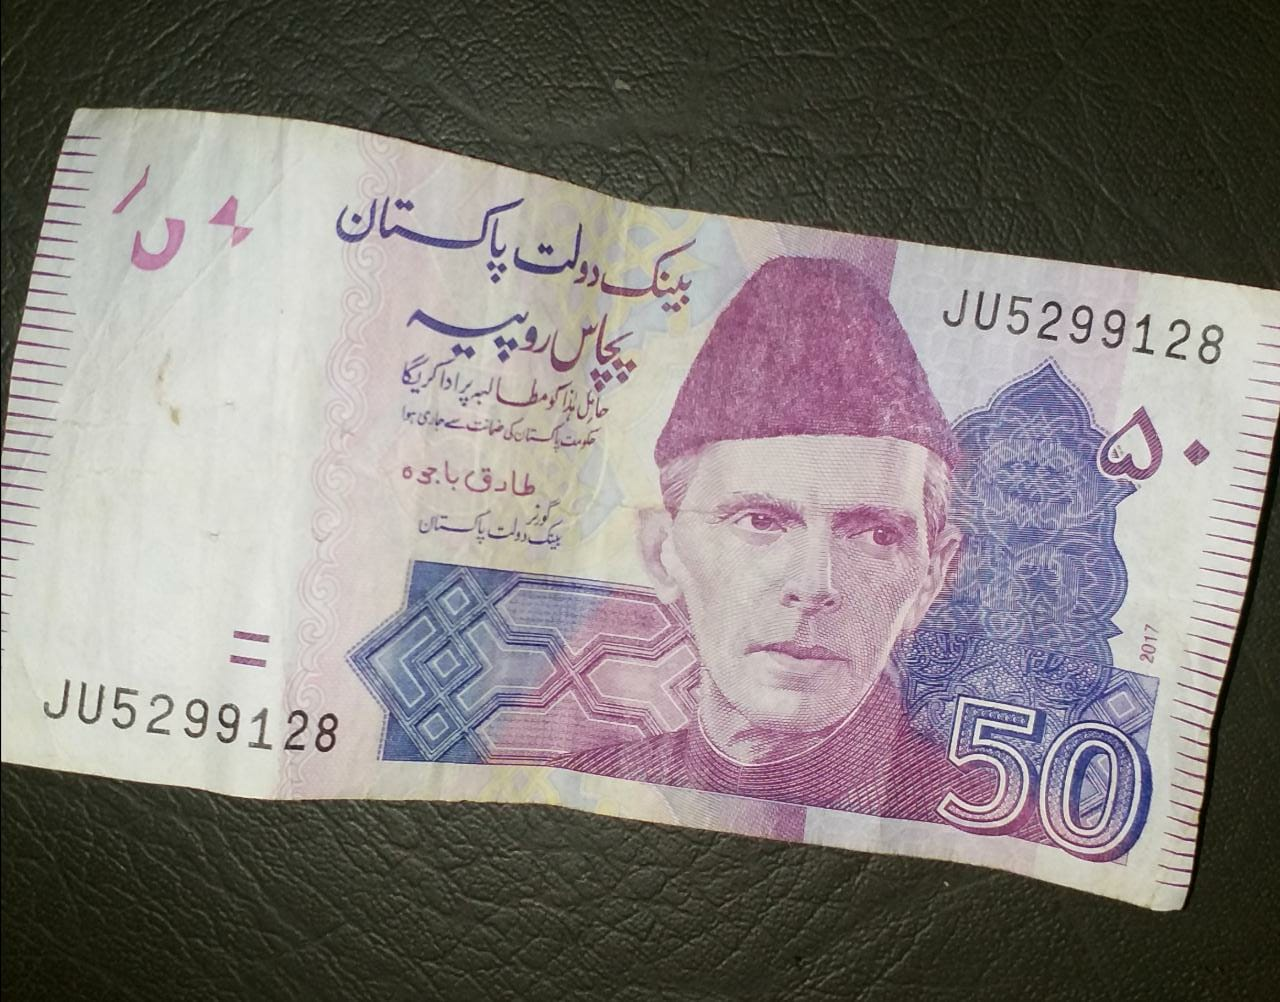50 rupee: (17, 79, 1241, 909)
